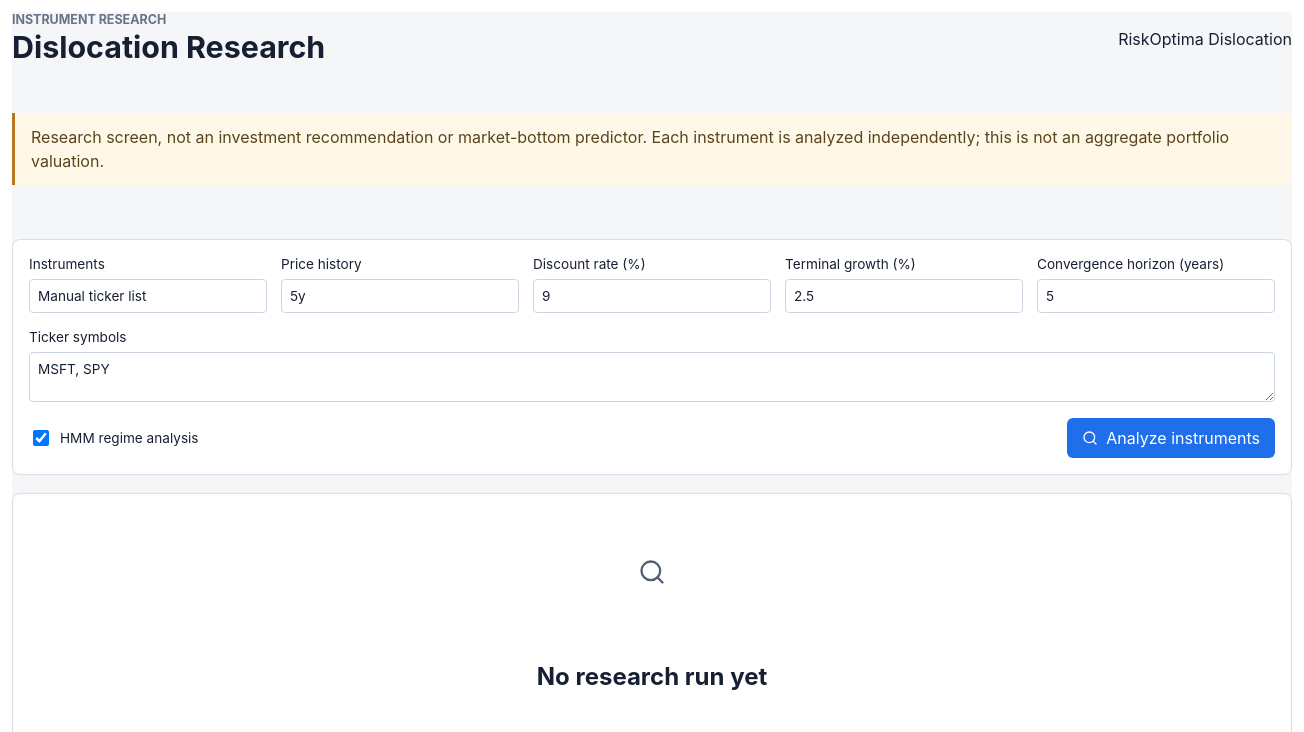
Scenario: Dislocation Research › shows all-error scans as failures
Click the button "Analyze instruments" at (1171, 438), box [1067,418,1275,458]
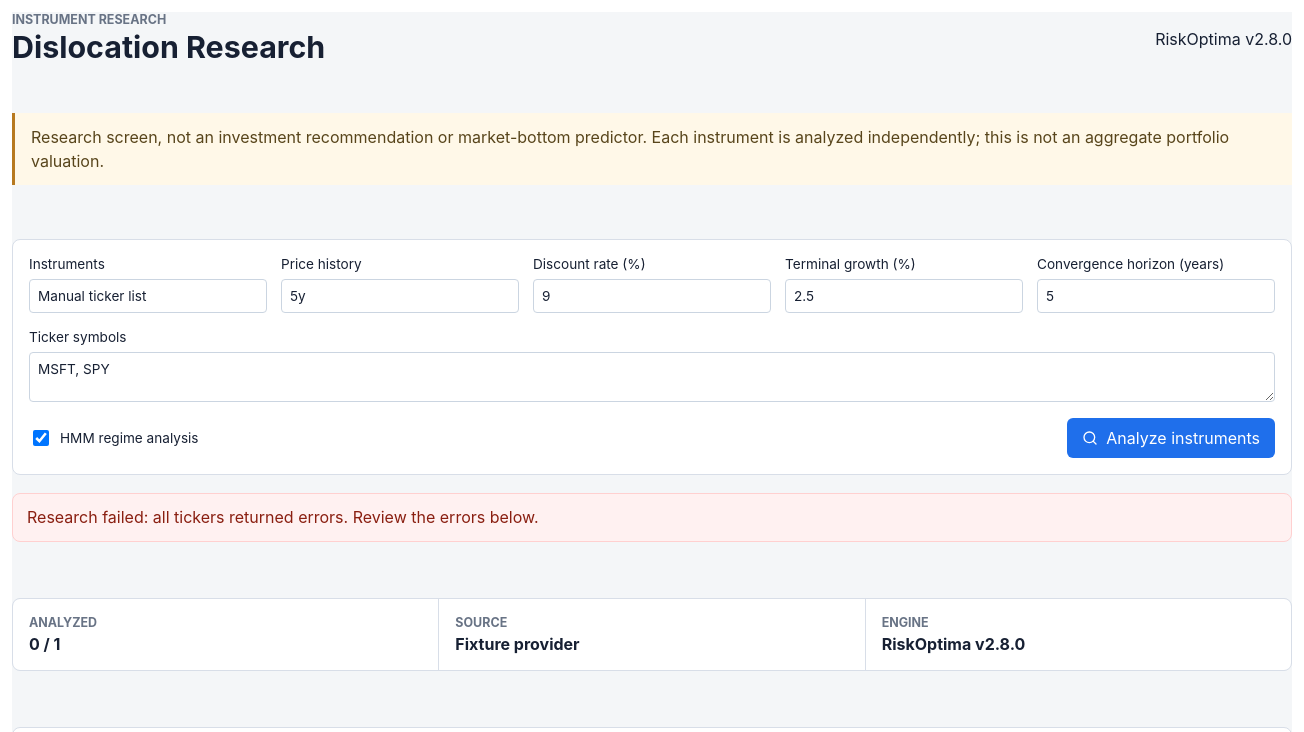
expect the text "Research failed: all tickers returned errors. Review the errors below." is shown: met, box [12,493,1292,542]
